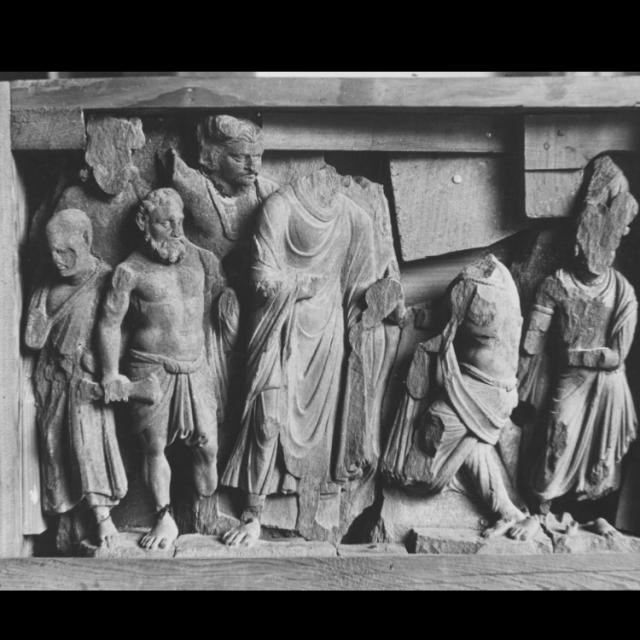buddha-standing: (221, 166, 405, 540)
